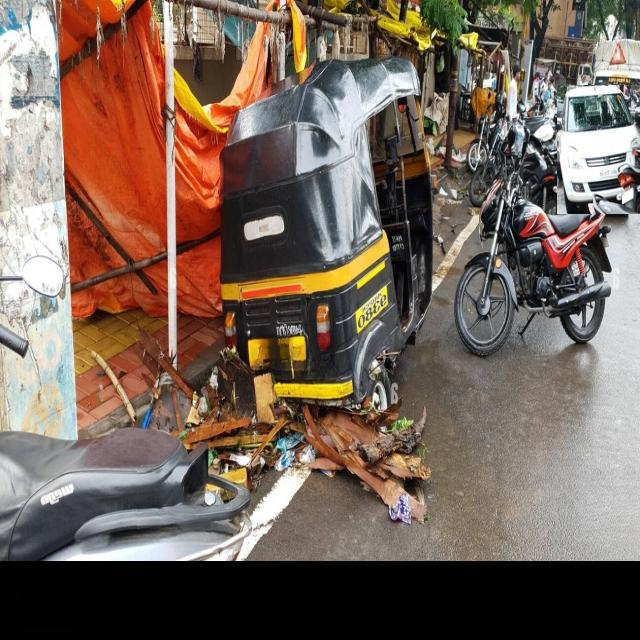accident: (455, 167, 611, 356)
autorickshaw: (220, 56, 432, 406)
car: (557, 86, 640, 214)
motorcycle: (520, 119, 578, 214)
